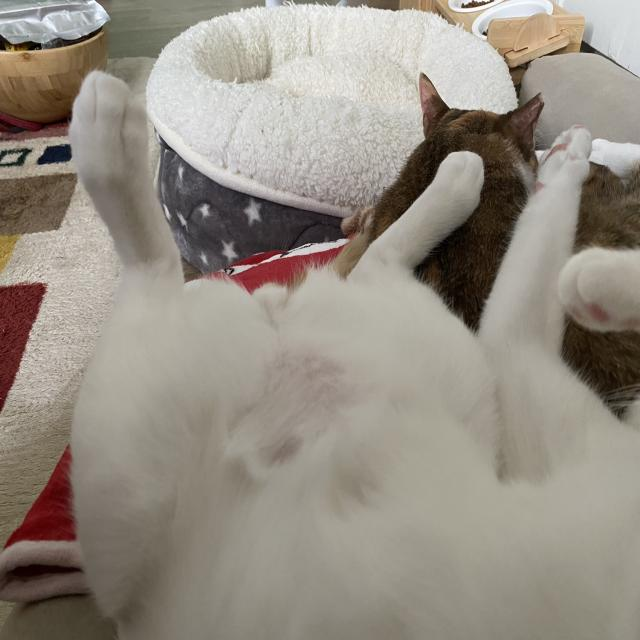cat1: (65, 72, 640, 640)
cat2: (359, 64, 640, 404)
